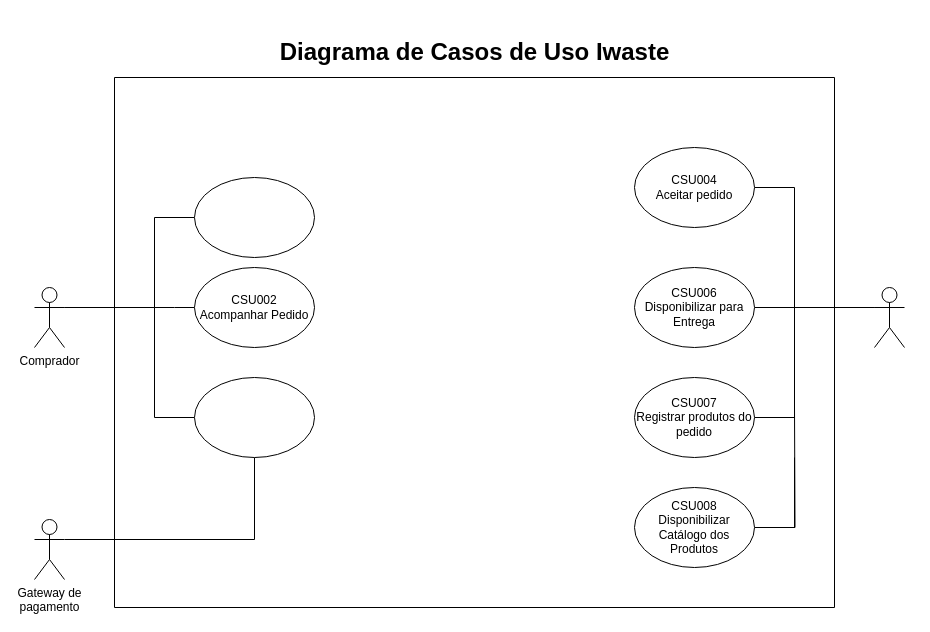
Image size: 930x632. Some labels were removed from this diagram. Here are the shapes that lost their labels. From the top down, the centre of each, then its label:
At (254,217): "CSU001 Solicitar Pedido".
At (889,317): "Mercado".
At (254,417): "CSU003 Efetuar pagamento do Pedido".
